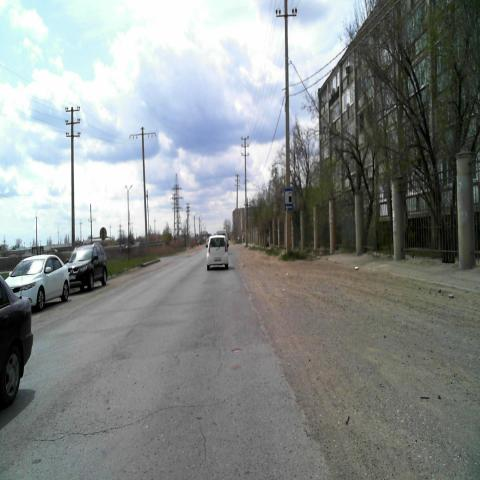7_3: (284, 187, 294, 212)
